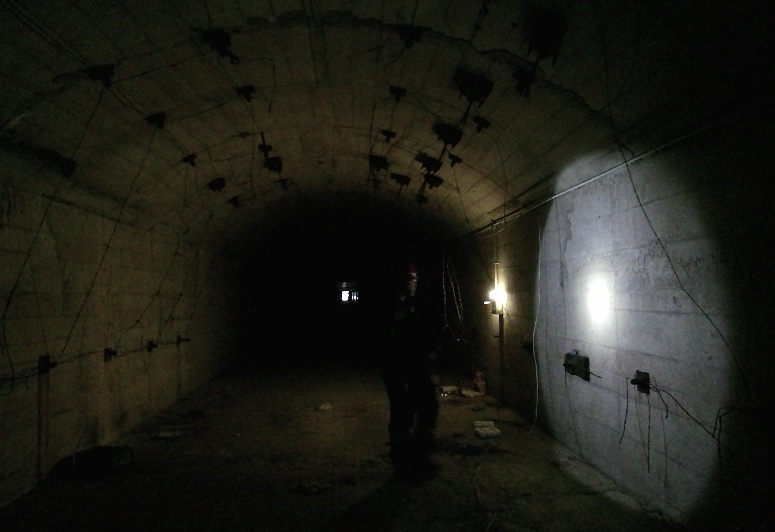person: (361, 259, 434, 482)
